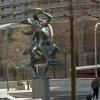Statue: (18, 5, 67, 75)
